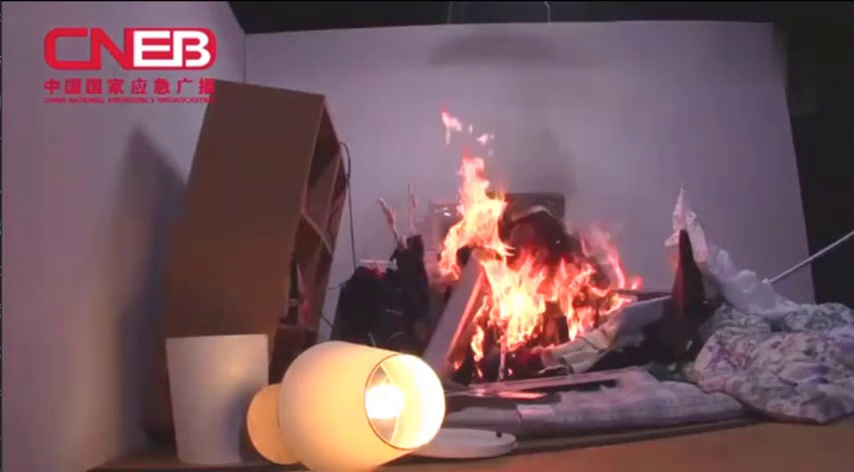fire: (427, 101, 645, 394)
